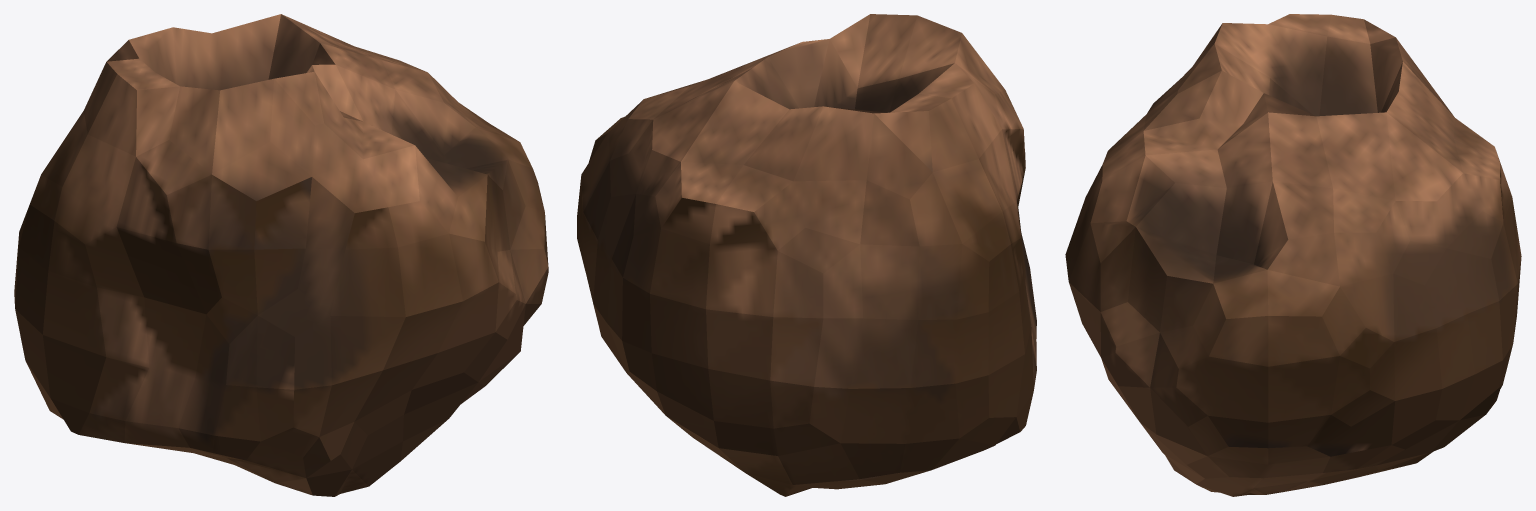
File: Asteroid.fbx
3 renders of one model, left to right at view 1: azimuth 30°, elevation 25°; view 2: azimuth 150°, elevation 25°; view 3: azimuth 270°, elevation 25°, orthographic. The views are drawn at different scales.
Visible parts, largest first — view 1: Sphere; view 2: Sphere; view 3: Sphere.
Part boxes in pixels (box(x1,y1,x2,y2)): Sphere: box(14, 14, 548, 496); Sphere: box(577, 14, 1036, 496); Sphere: box(1065, 14, 1521, 496).
Bounding box in the file's own units: 365 × 327 × 326.
